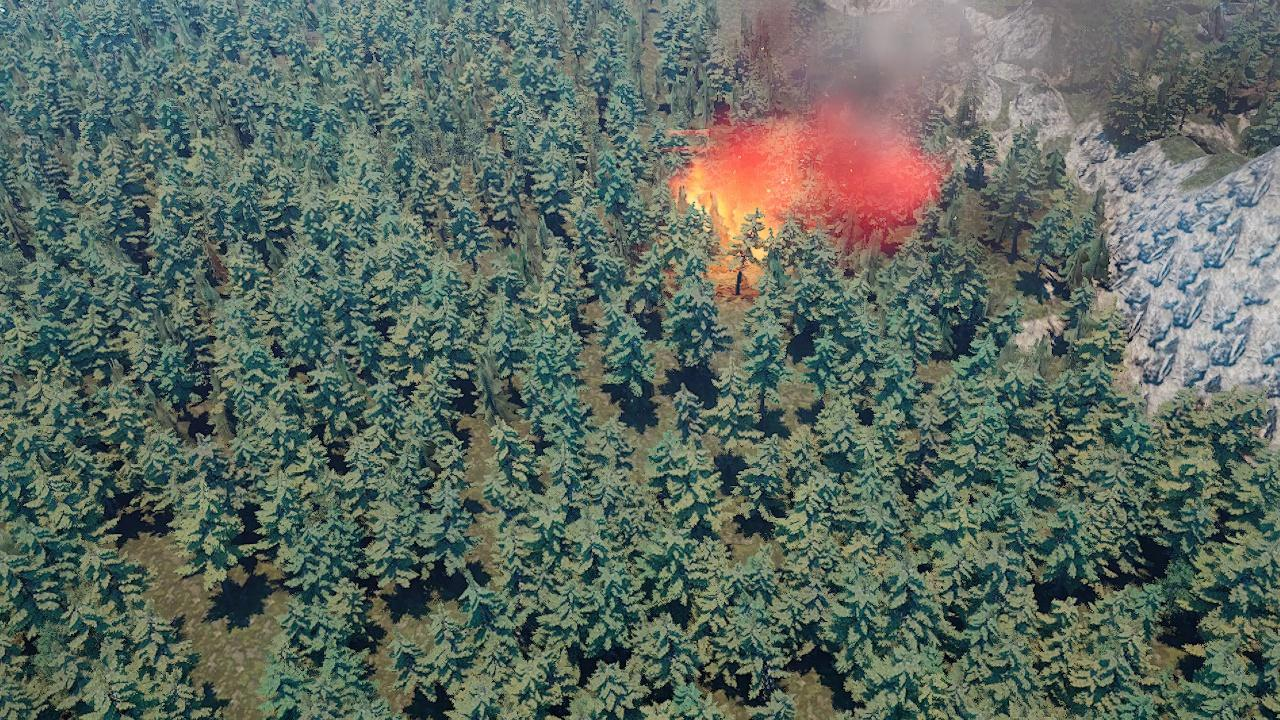fire: (673, 157, 758, 280)
smoke: (695, 0, 1280, 260)
